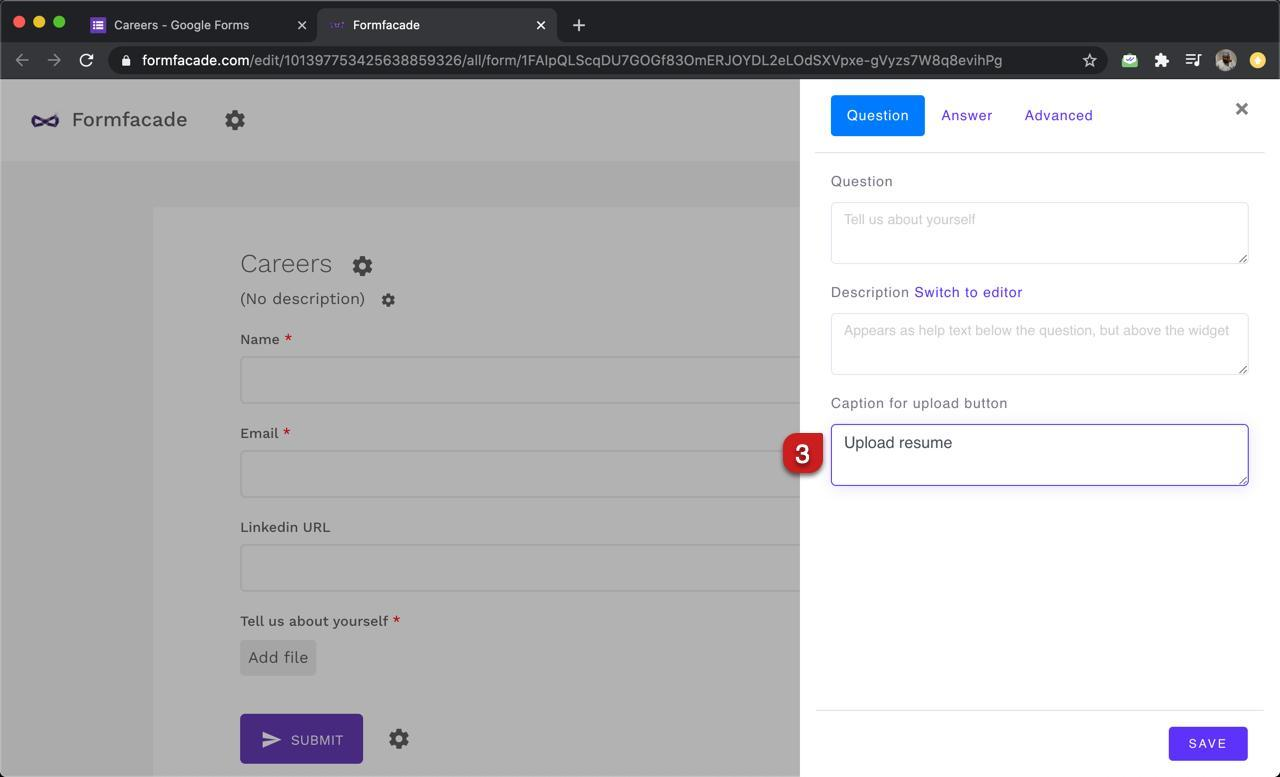button: (238, 710, 368, 771), (831, 94, 928, 140), (238, 638, 321, 681), (1167, 725, 1252, 764)
icon: (388, 727, 415, 754), (351, 255, 378, 281), (382, 292, 398, 311)
input: (828, 200, 1254, 271), (830, 421, 1254, 491), (828, 312, 1252, 380), (241, 542, 792, 593), (243, 451, 776, 499), (243, 360, 789, 406)
label: (831, 284, 1027, 304), (830, 395, 1012, 414), (240, 611, 402, 631), (240, 518, 335, 540), (238, 330, 300, 351), (240, 422, 295, 442), (830, 174, 898, 190)
